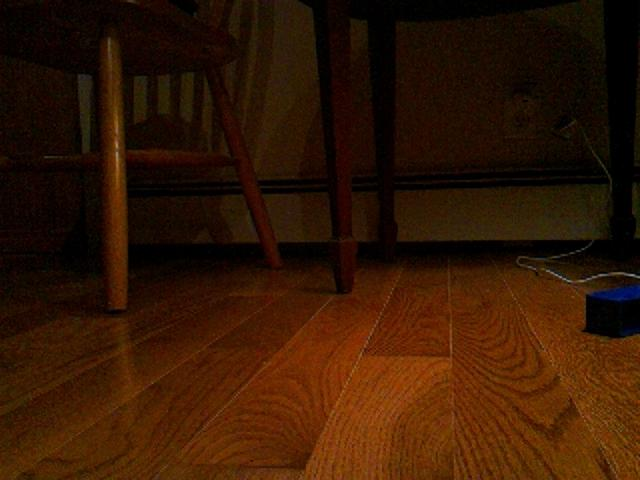blue: (582, 282, 640, 340)
